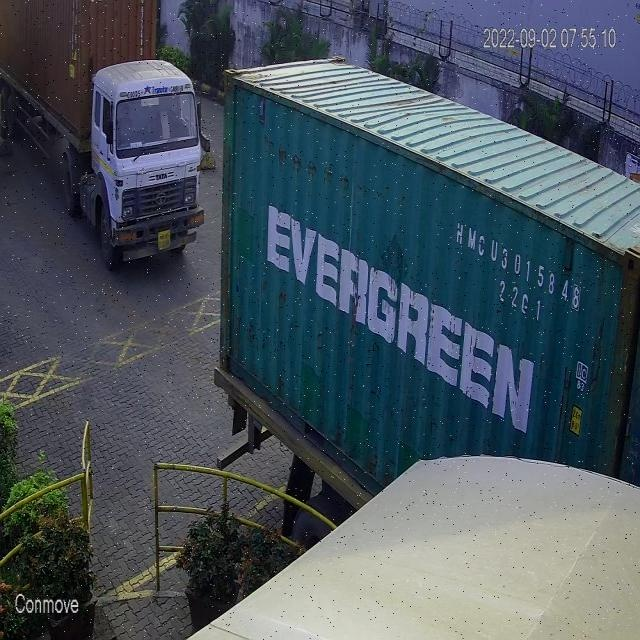Dent: (391, 65, 464, 142)
Rusty: (215, 49, 248, 395), (611, 233, 640, 467)
